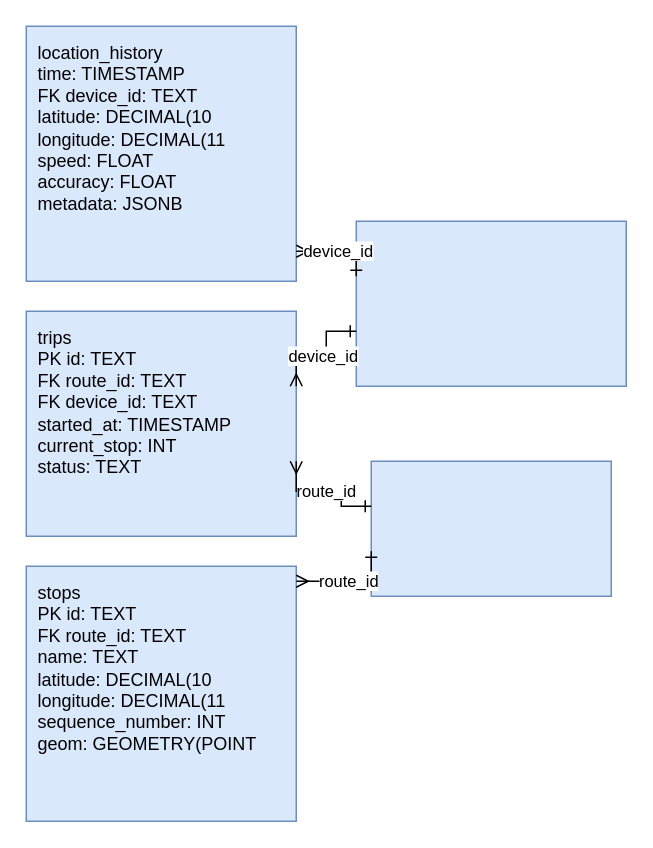
Some shapes in this 653 by 848 pixel diagram are drawn without their labels. Each missing label, with the box of its shape:
devices PK id: TEXT name: TEXT status: TEXT created_at: TIMESTAMP: (355, 220, 626, 386)
routes PK id: TEXT name: TEXT description: TEXT: (370, 460, 611, 596)
